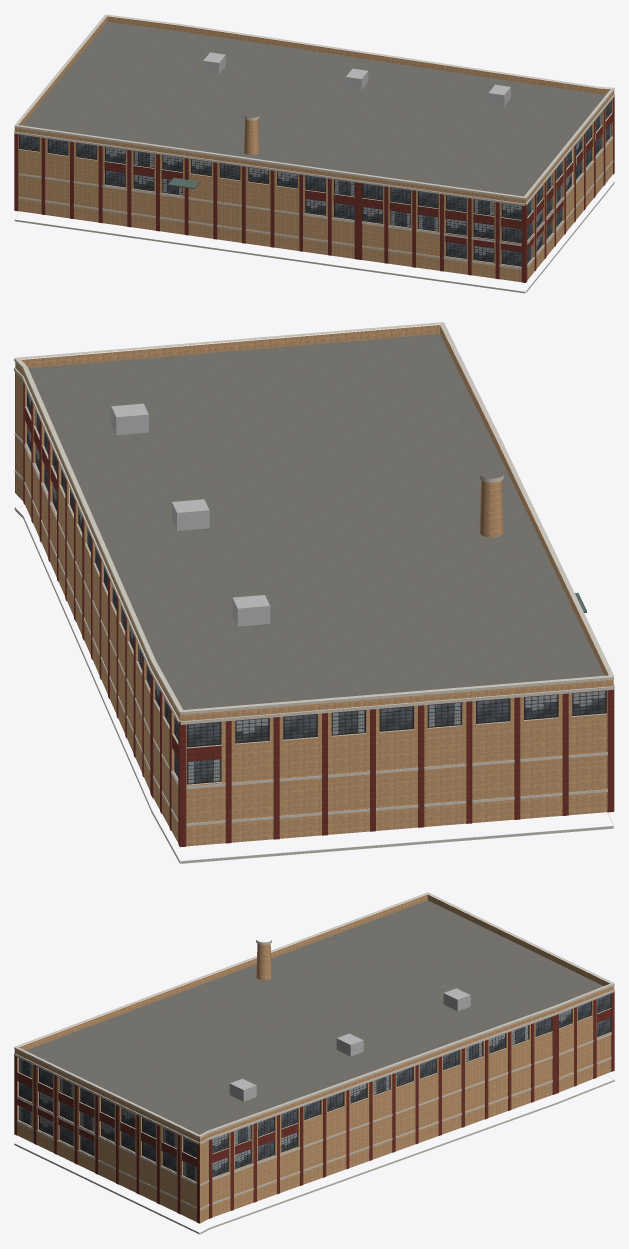
File: telephone-factory-lofts.glb
3 renders of one model, top to bottom at view 1: azimuth 30°, elevation 25°; view 2: azimuth 150°, elevation 25°; view 3: azimuth 270°, elevation 25°, orthographic. The views are drawn at different scales.
Parts seen in each view (by area): view 1: telephone-factory-lofts_lod0; view 2: telephone-factory-lofts_lod0; view 3: telephone-factory-lofts_lod0.
Boxes of the visible parts, bbox=[...] form: telephone-factory-lofts_lod0: bbox=[14, 14, 614, 293]; telephone-factory-lofts_lod0: bbox=[14, 322, 614, 863]; telephone-factory-lofts_lod0: bbox=[14, 892, 614, 1234].
Size of what is drawn, in the model's own units: 81.19 by 20.1 by 84.31.
8 materials, 6 textured.
